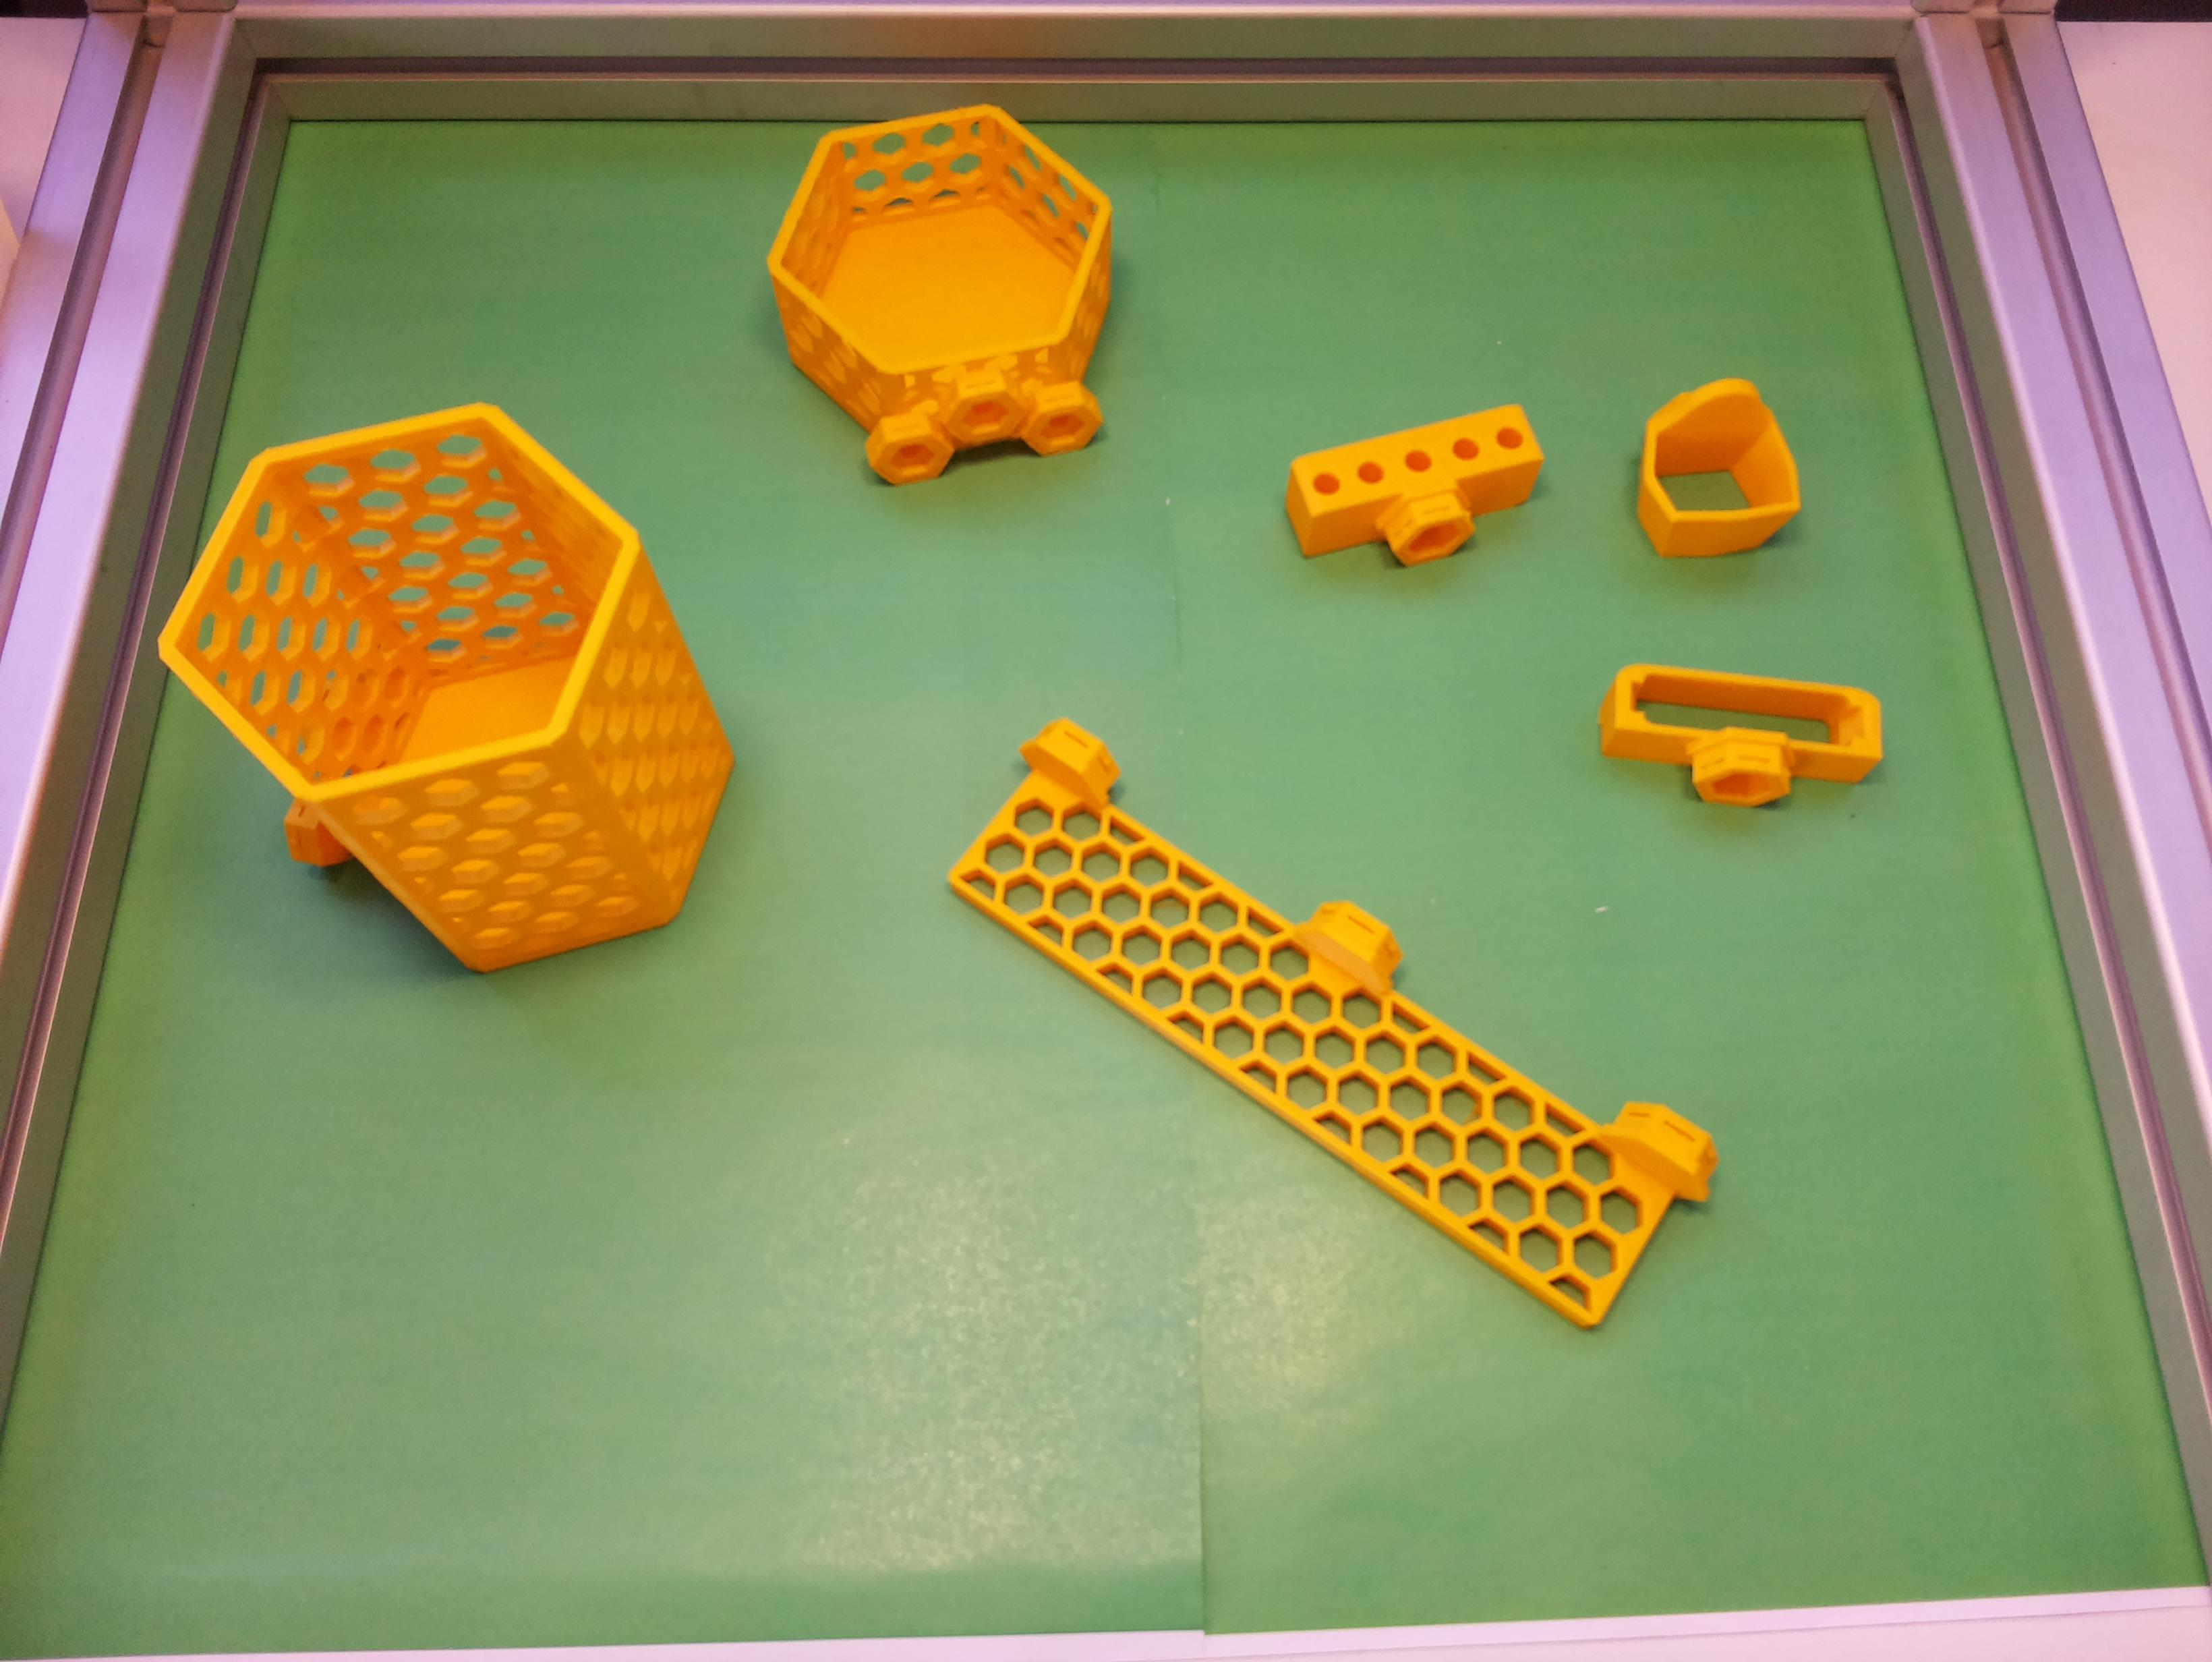bit_holder: (1273, 389, 1563, 595)
bottle_holder: (745, 82, 1154, 501)
cup_holder: (96, 304, 829, 1074)
cutter_holder: (1592, 662, 1889, 821)
scissor_holder: (1603, 365, 1817, 583)
tool_holder: (922, 705, 1737, 1346)
